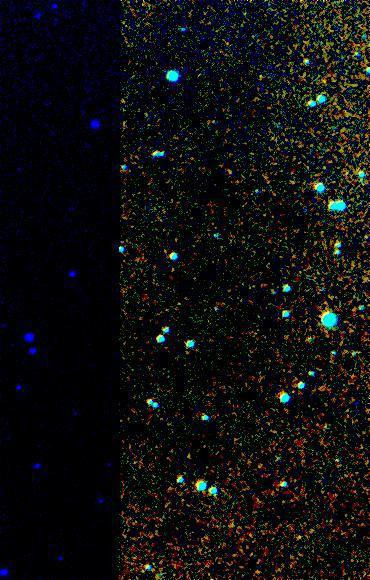star: (298, 515, 328, 545)
